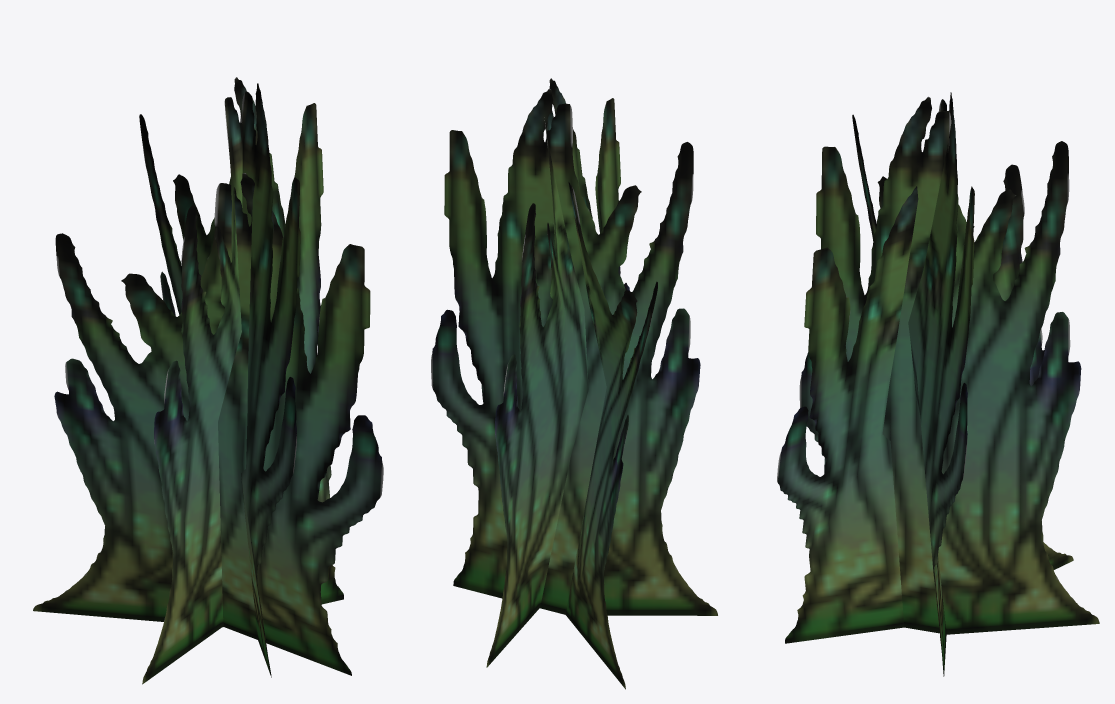
The model's file is StabShrooms.fbx.
3 renders of one model, left to right at view 1: azimuth 30°, elevation 25°; view 2: azimuth 150°, elevation 25°; view 3: azimuth 270°, elevation 25°, orthographic. The views are drawn at different scales.
Parts seen in each view (by area): view 1: StabShrooms; view 2: StabShrooms; view 3: StabShrooms.
Part boxes in pixels (x1,y1,x2,y2): StabShrooms: (33,77,383,684); StabShrooms: (431,78,717,689); StabShrooms: (777,92,1099,676).
Bounding box in the file's own units: 226 × 400 × 227.
1 material, 1 textured.
